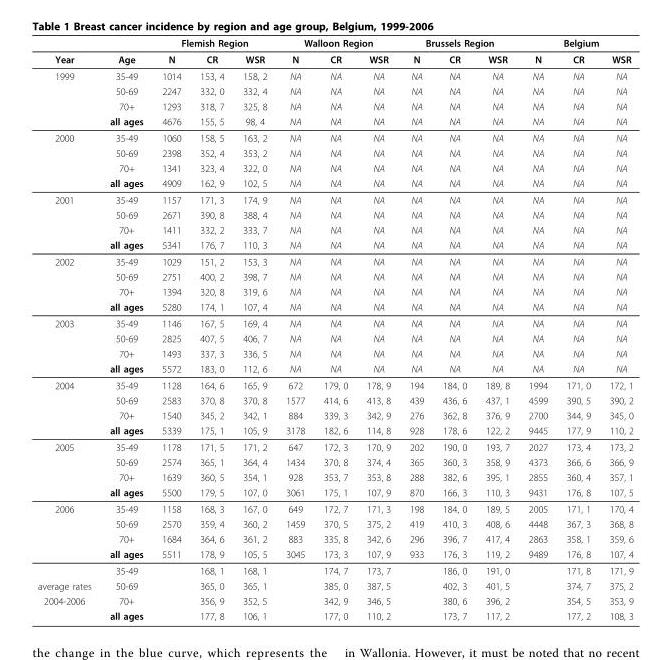table: (36, 36, 632, 621)
table column: (36, 36, 99, 621), (99, 36, 152, 621), (189, 36, 232, 621), (232, 36, 275, 621), (313, 36, 356, 621), (356, 36, 399, 621), (432, 36, 475, 621), (475, 36, 518, 621), (556, 36, 599, 621), (275, 36, 313, 621), (518, 36, 556, 621), (152, 36, 189, 621), (399, 36, 432, 621), (599, 36, 632, 621)
table column header: (36, 36, 632, 67)
table row: (36, 50, 632, 67), (36, 67, 632, 83), (36, 113, 632, 129), (36, 129, 632, 145), (36, 175, 632, 191), (36, 191, 632, 207), (36, 237, 632, 253), (36, 298, 632, 314), (36, 314, 632, 330), (36, 360, 632, 376), (36, 376, 632, 392), (36, 422, 632, 438), (36, 438, 632, 454), (36, 484, 632, 500), (36, 500, 632, 516), (36, 546, 632, 562), (36, 562, 632, 578), (36, 83, 632, 98), (36, 98, 632, 113), (36, 145, 632, 160), (36, 160, 632, 175), (36, 207, 632, 222), (36, 222, 632, 237), (36, 253, 632, 268), (36, 268, 632, 283), (36, 283, 632, 298), (36, 330, 632, 345), (36, 345, 632, 360), (36, 392, 632, 407), (36, 407, 632, 422), (36, 454, 632, 469), (36, 469, 632, 484), (36, 516, 632, 531), (36, 531, 632, 546), (36, 578, 632, 593), (36, 593, 632, 608), (36, 36, 632, 50), (36, 608, 632, 621)
table spanning cell: (36, 500, 99, 578), (36, 67, 99, 129), (36, 129, 99, 191), (36, 191, 99, 253), (36, 314, 99, 376), (36, 376, 99, 438), (36, 438, 99, 500), (36, 253, 99, 314), (36, 36, 99, 67), (36, 593, 99, 621), (275, 36, 399, 50), (152, 36, 275, 50), (399, 36, 518, 50), (99, 36, 152, 67), (518, 36, 632, 50)
